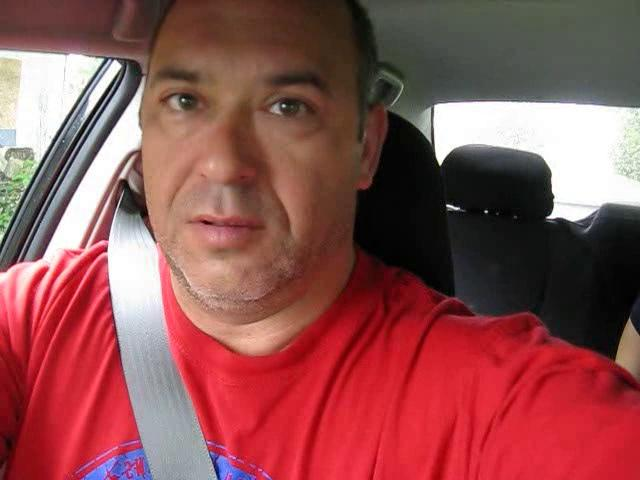no_yawn: (168, 199, 278, 257)
open_eyeL: (148, 79, 218, 126)
open_eyeR: (249, 82, 336, 132)
